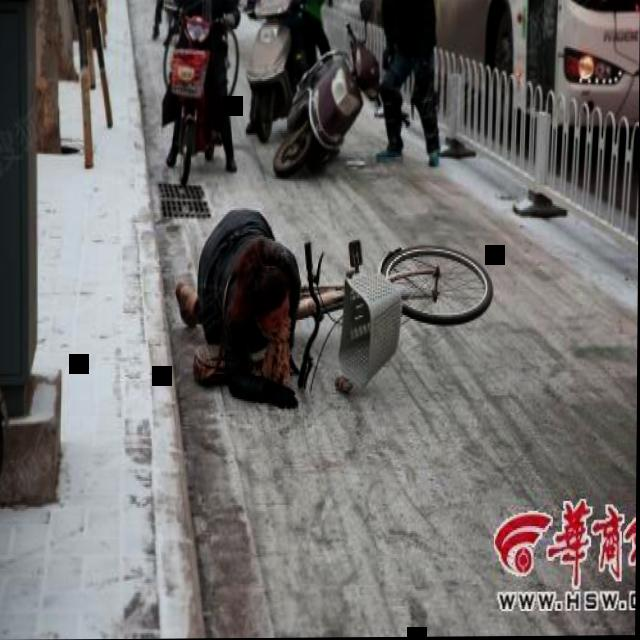Fall-Detected: (163, 176, 305, 423)
